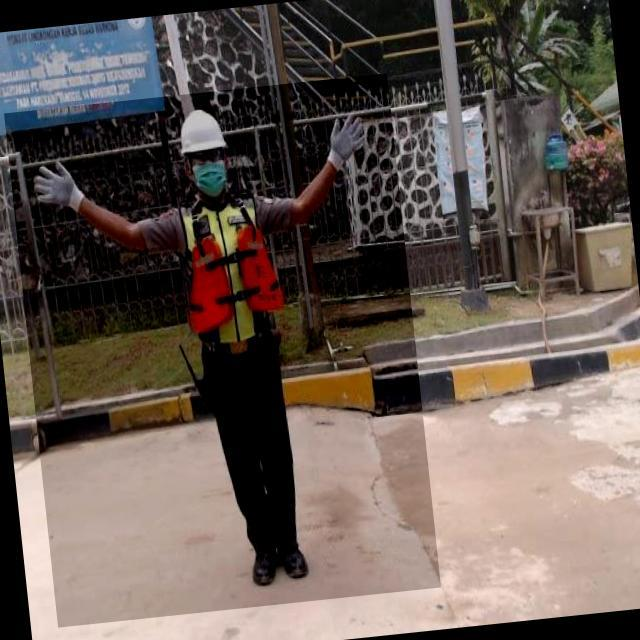Gloves: (28, 148, 91, 223), (318, 106, 375, 180)
Helmet: (179, 111, 228, 159)
Person: (18, 74, 453, 613)
Safety Boot: (248, 539, 282, 590), (275, 540, 310, 585)
Safety Vest: (175, 194, 289, 348)
